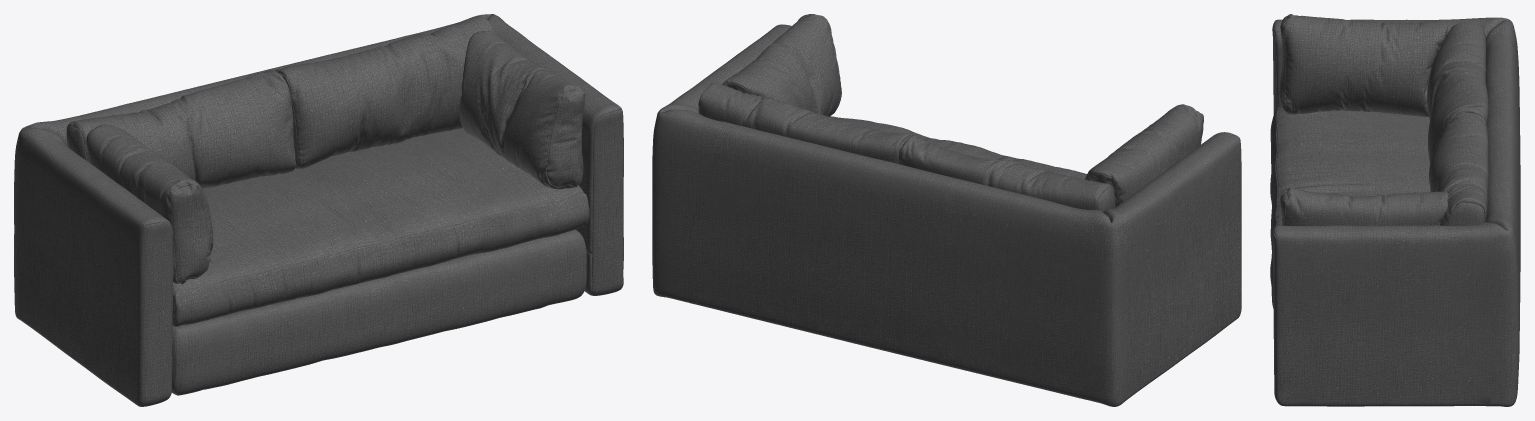
The model's file is dimensiva-hackney-sofa-by-hay.optimized.glb.
3 renders of one model, left to right at view 1: azimuth 30°, elevation 25°; view 2: azimuth 150°, elevation 25°; view 3: azimuth 270°, elevation 25°, orthographic. The views are drawn at different scales.
Parts seen in each view (by area): view 1: Hackney Sofa; view 2: Hackney Sofa; view 3: Hackney Sofa.
Boxes of the visible parts, box(x1,y1,x2,y2) form: Hackney Sofa: box(14, 14, 623, 406); Hackney Sofa: box(652, 14, 1241, 406); Hackney Sofa: box(1270, 14, 1520, 406).
Size of the model in its own units: 2.04 by 0.8673 by 0.9845.
Materials: 2 (1 with a texture image).
